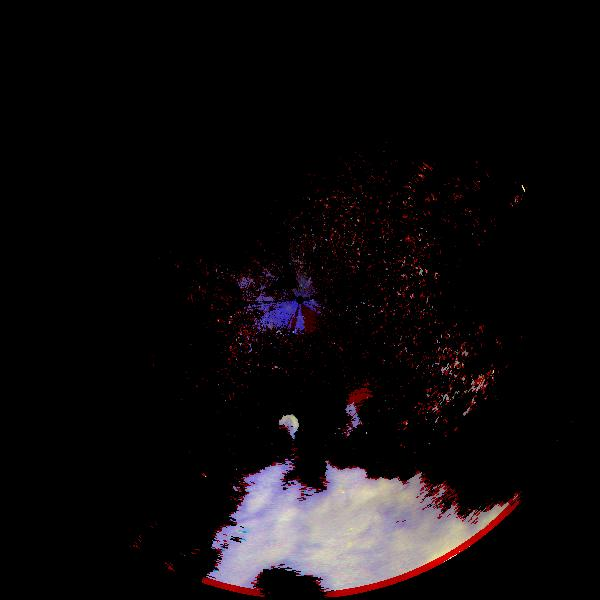roost: (277, 415, 301, 439)
